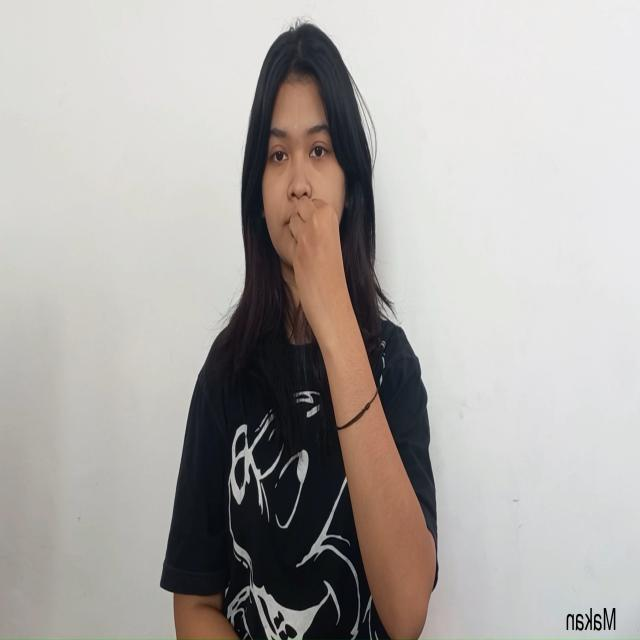Makan -BISINDO-: (288, 194, 350, 353)
